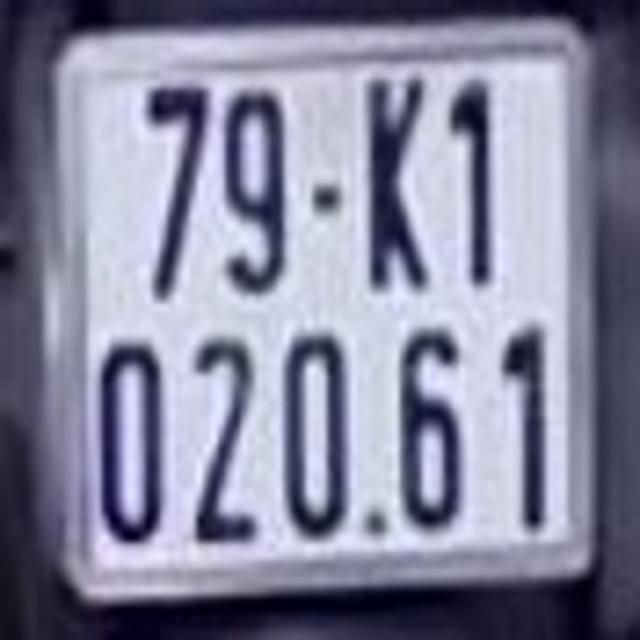0: (91, 335, 165, 544), (284, 330, 350, 543)
1: (496, 318, 548, 526), (448, 76, 496, 286)
2: (188, 332, 266, 548)
6: (396, 326, 471, 524)
7: (142, 81, 214, 298)
9: (224, 85, 296, 294)
K: (364, 71, 432, 294)
